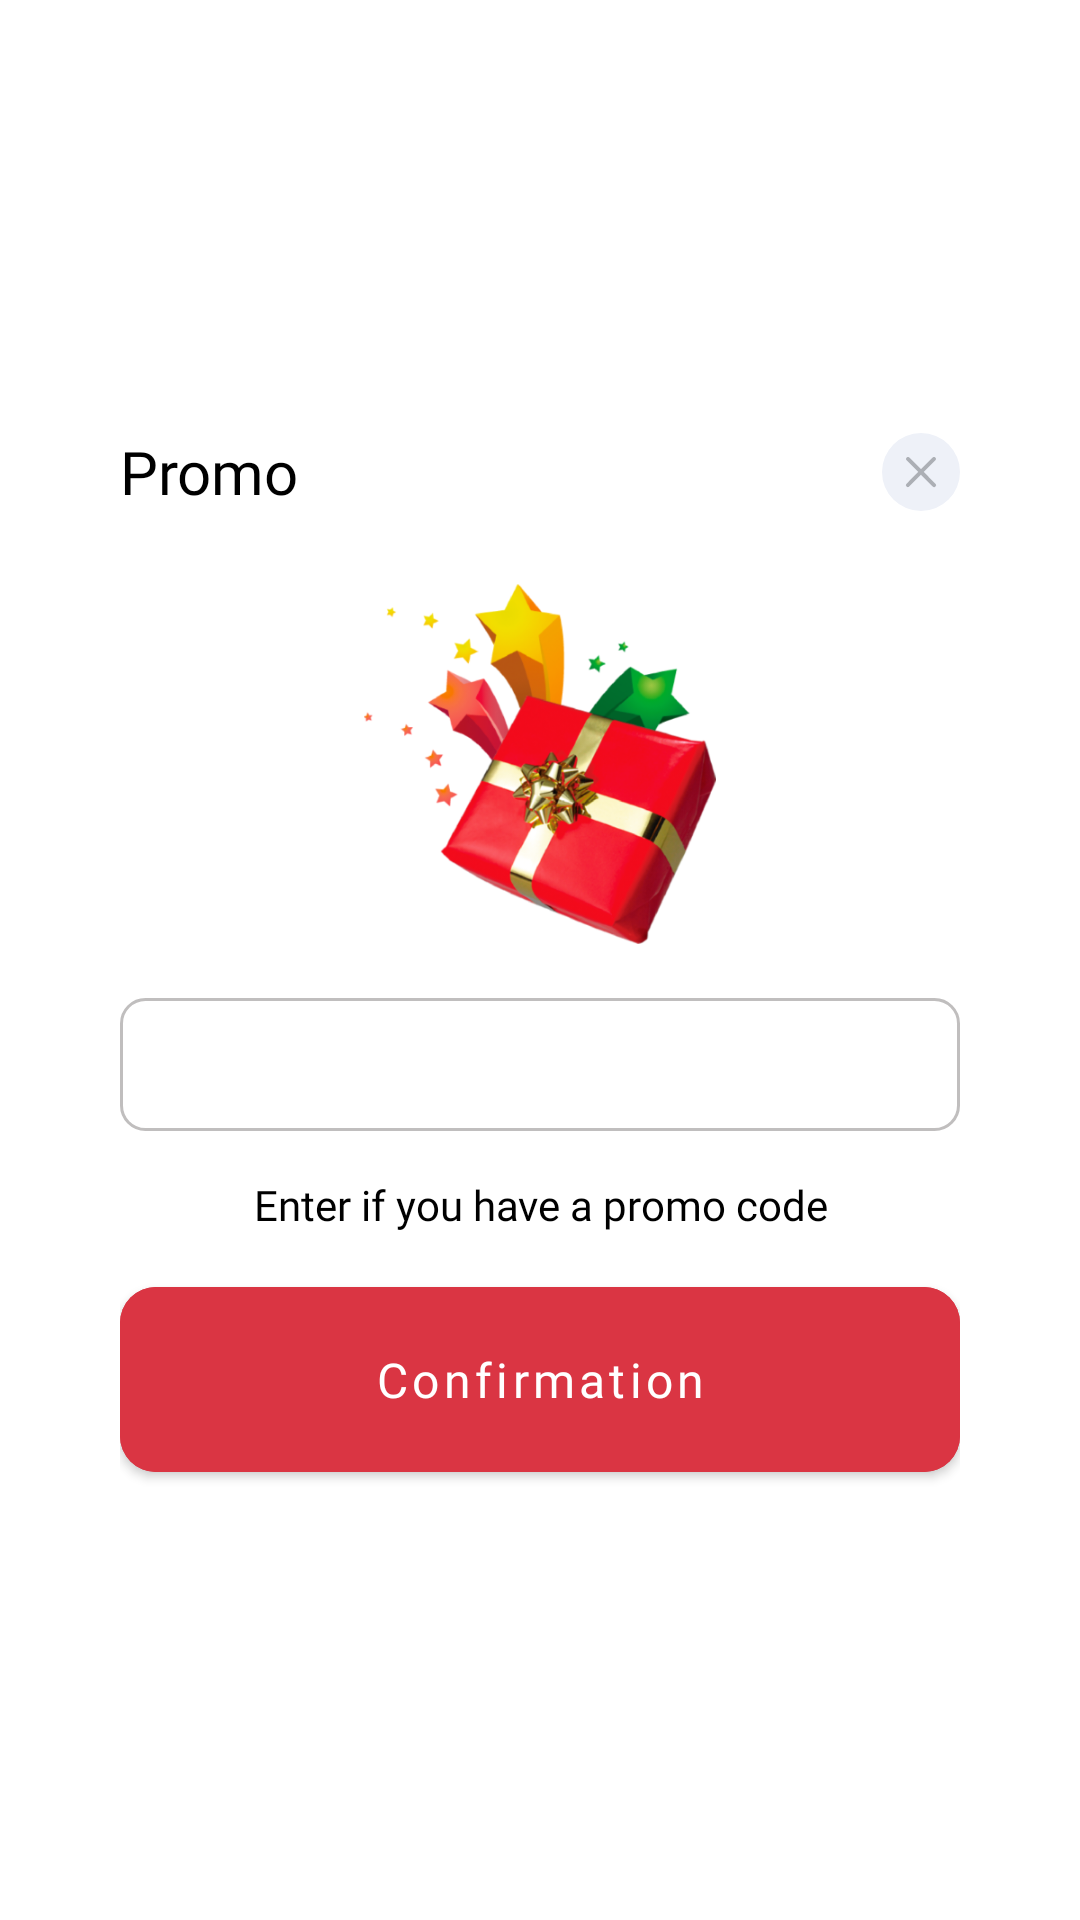

Where icons sit on this 1080 x 1920 app screen, as (x1, y1, x2, y2):
close: (882, 433, 960, 511)
gift: (364, 584, 716, 944)
